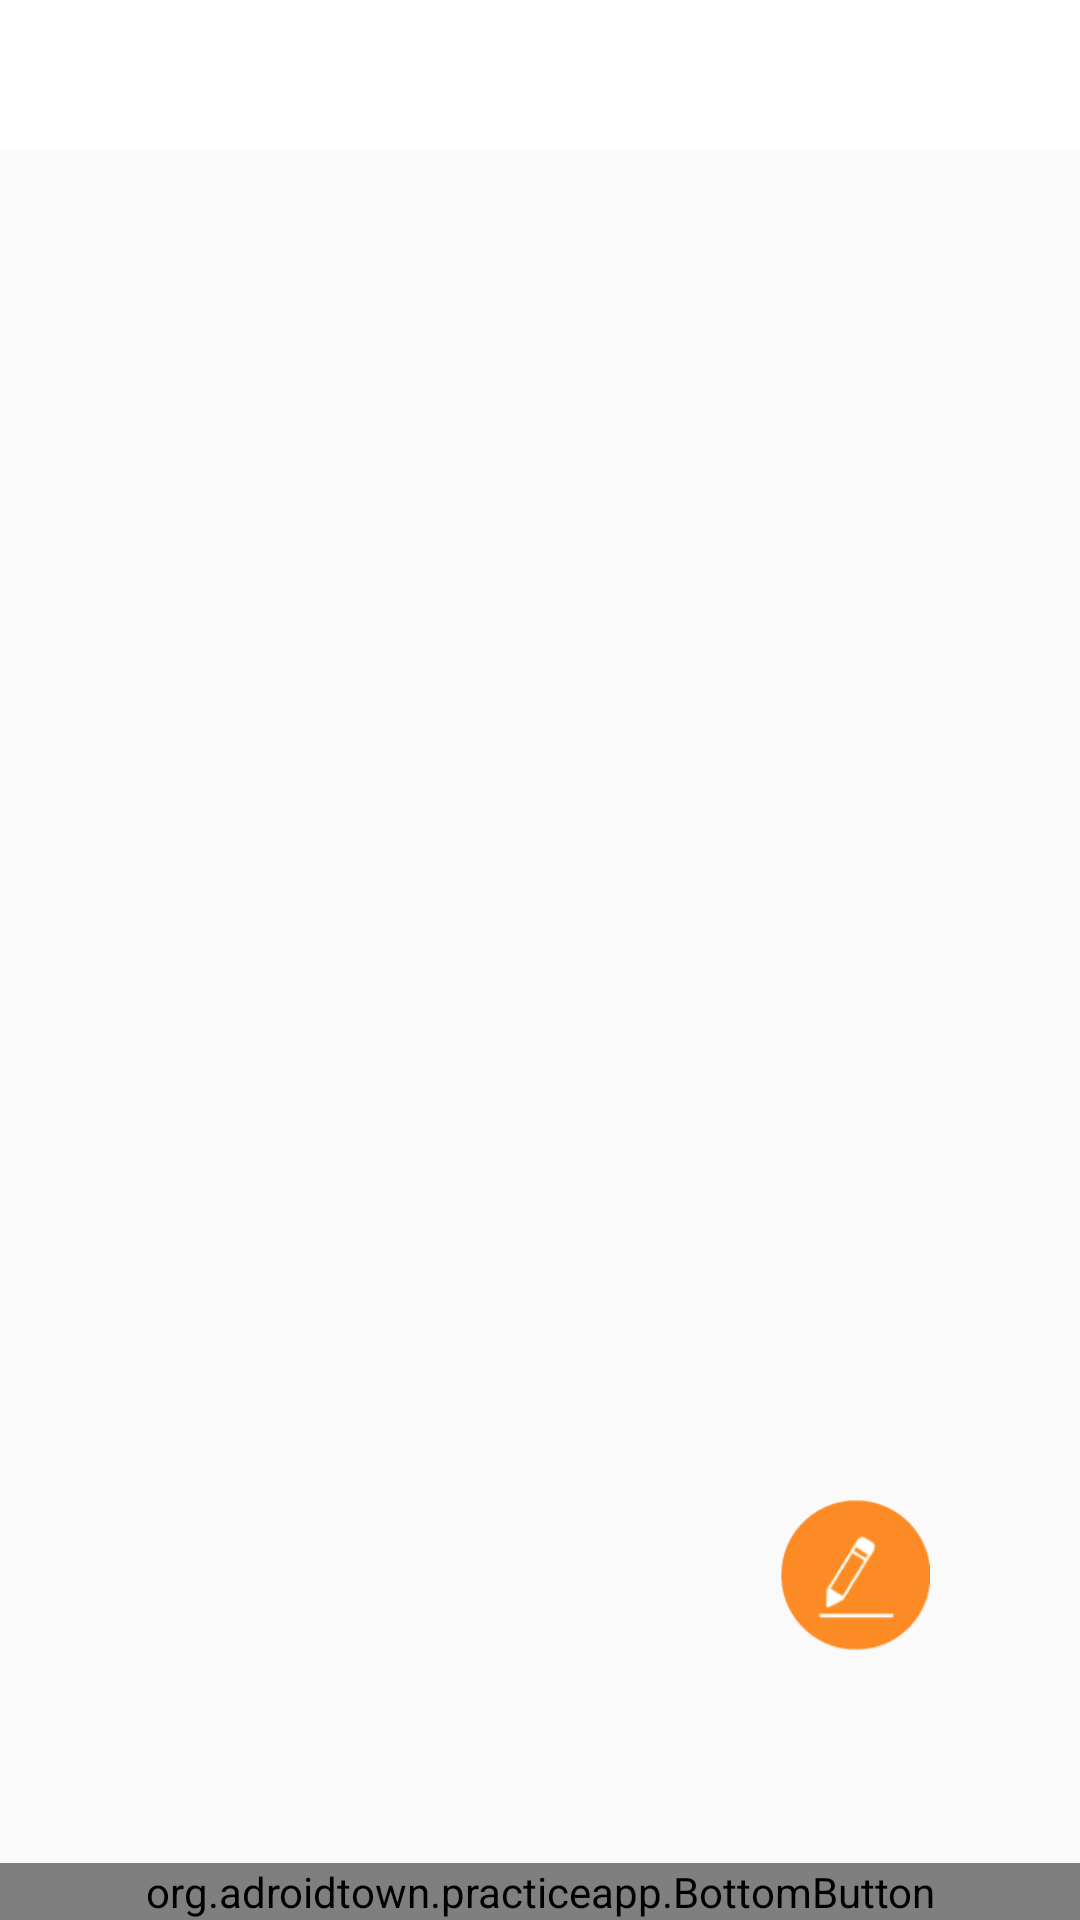

Point at icon controls on the screen. Image size 1080*1920, points as [x,y].
write: [855,1575]
